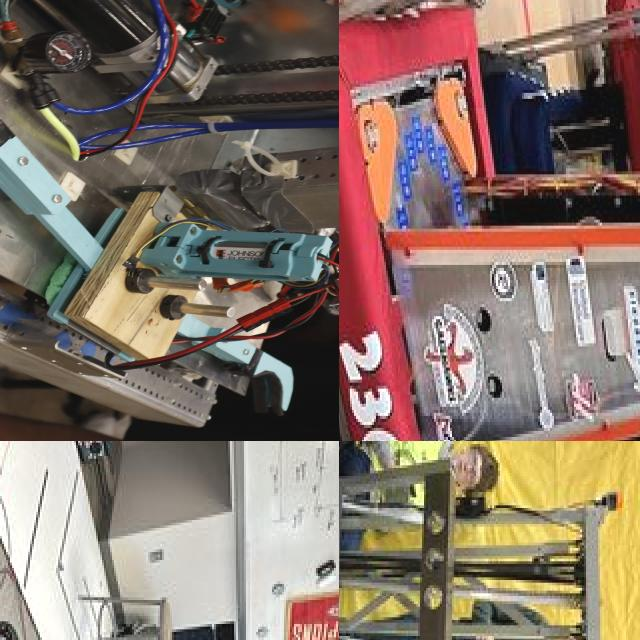FRC-Robots: (0, 0, 339, 441), (339, 0, 640, 441), (339, 441, 640, 640), (0, 559, 339, 640)
